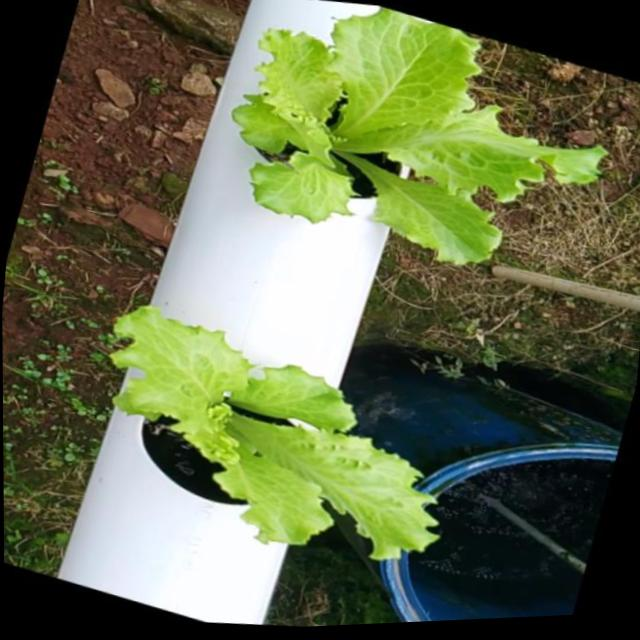Baby: (232, 21, 605, 282), (115, 330, 448, 586)
